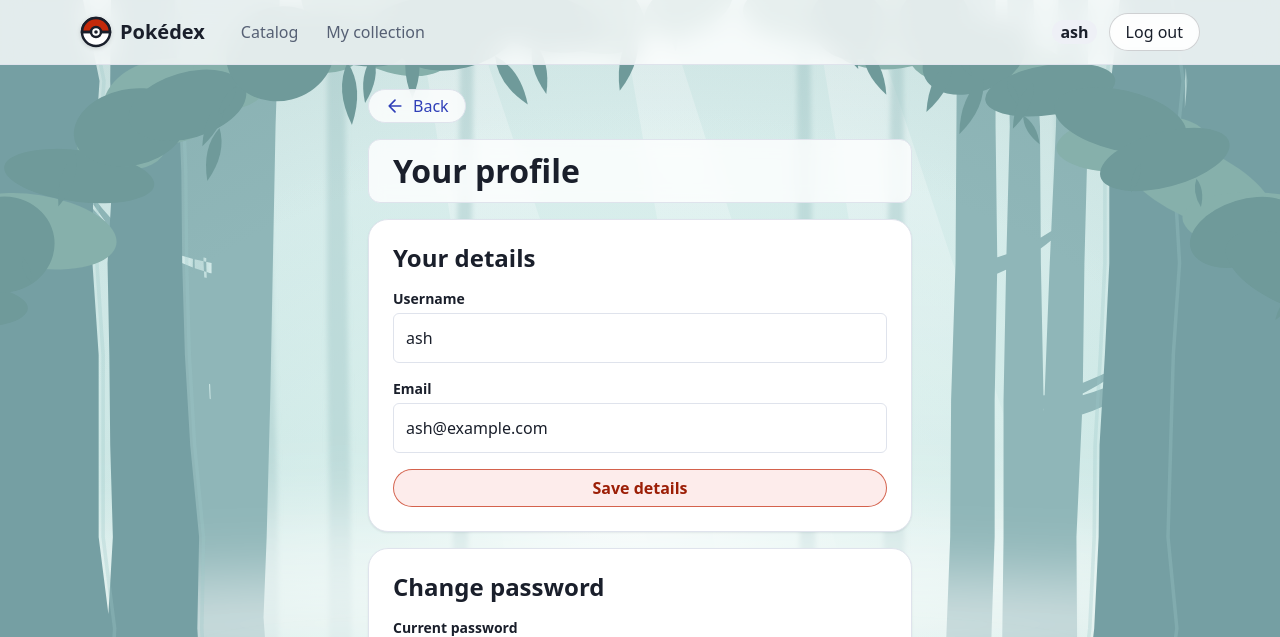
Test case: ProfilePage › your details › sends the new e-mail with the current password
The image size is (1280, 637).
Expected: the field labelled "Username" is shown, [393,313,887,363]
Replace the text in the field labelled "Email" with "new@example.com": (640, 428) [393,403,887,453]
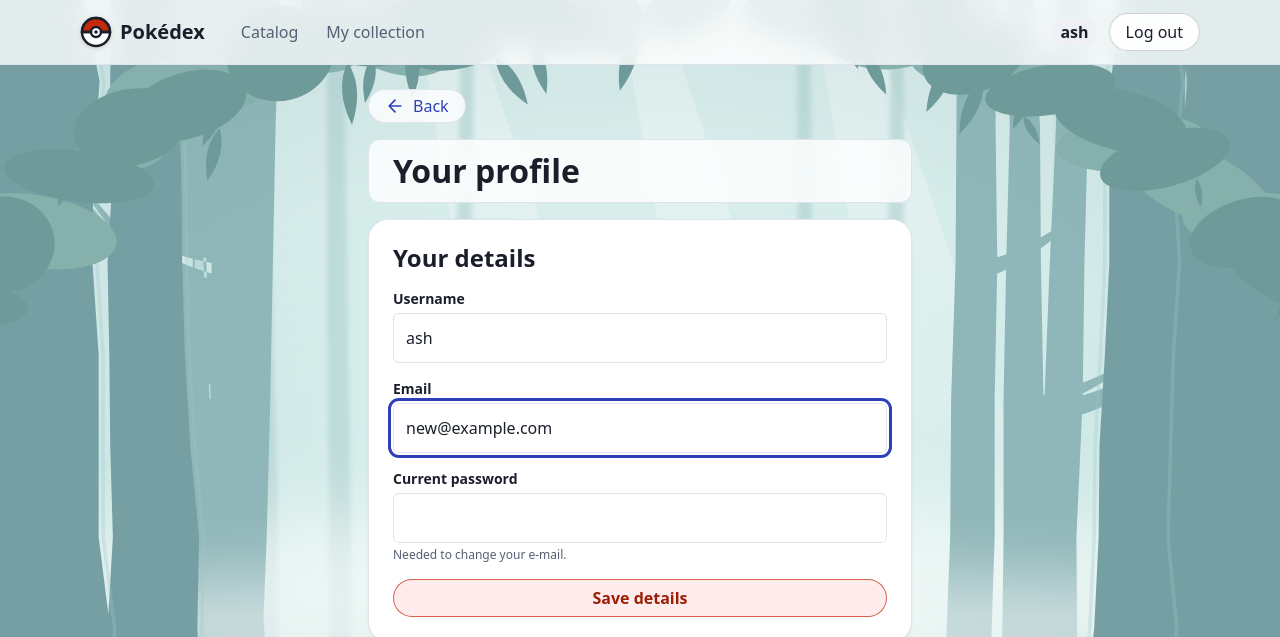
In the password field labelled "Current password" below "Email": (640, 518) [393,493,887,543], type "Pikachu123"
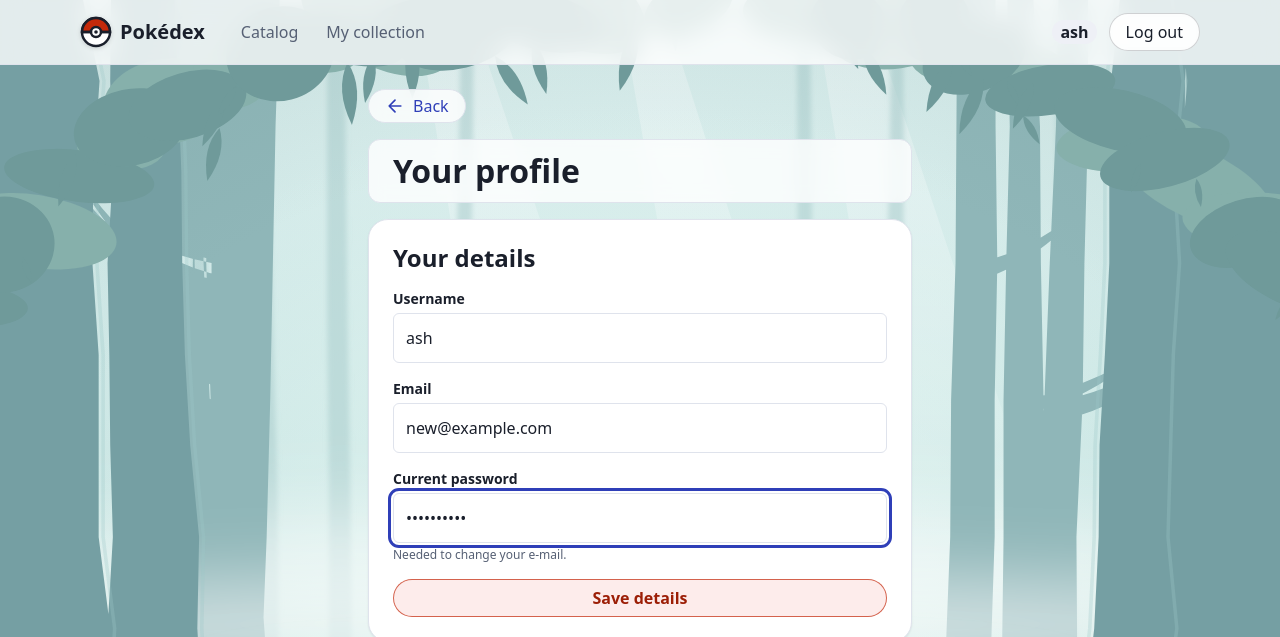
Click the button "Save details": click(640, 598) [393,579,887,617]
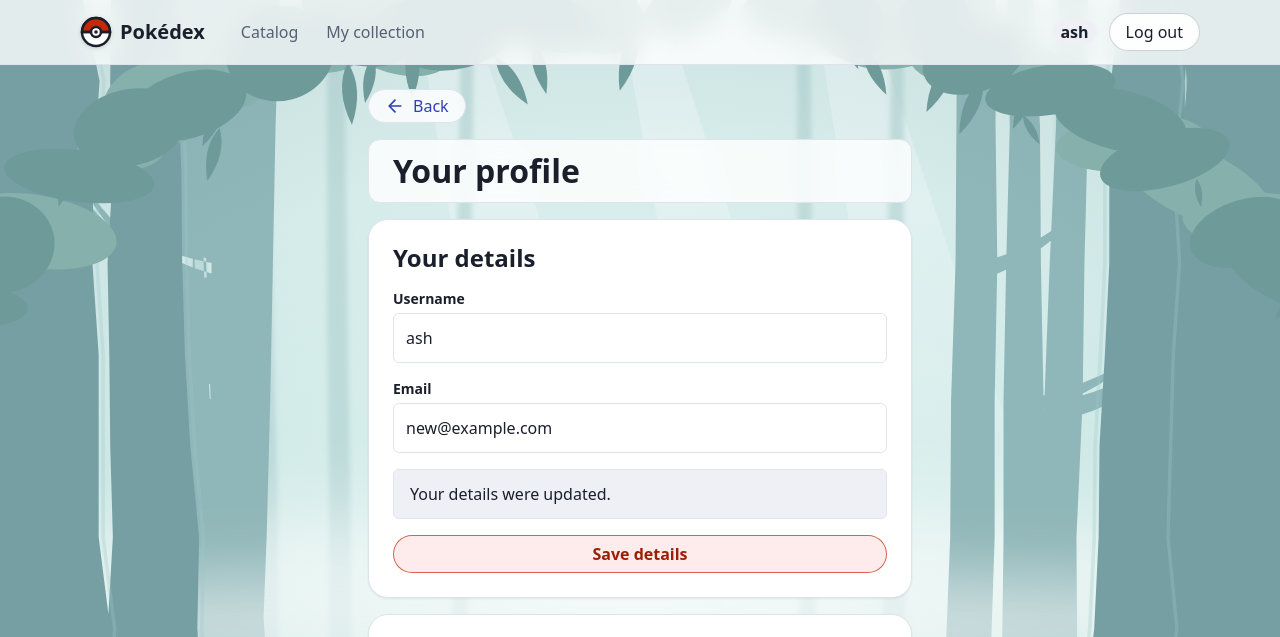
Now the message "Your details were updated." is not empty, box [393,469,887,519]
